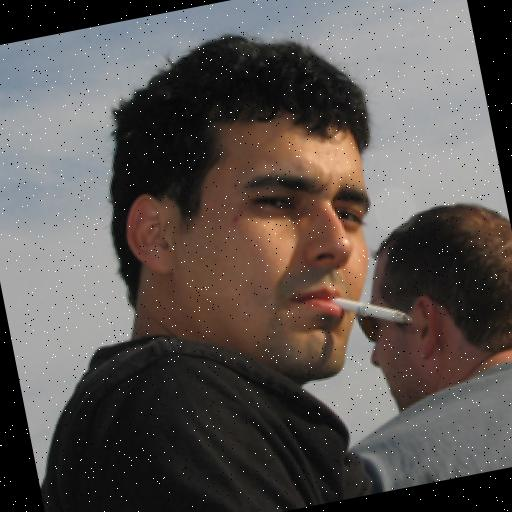terdeteksi merokok: (220, 124, 434, 394)
